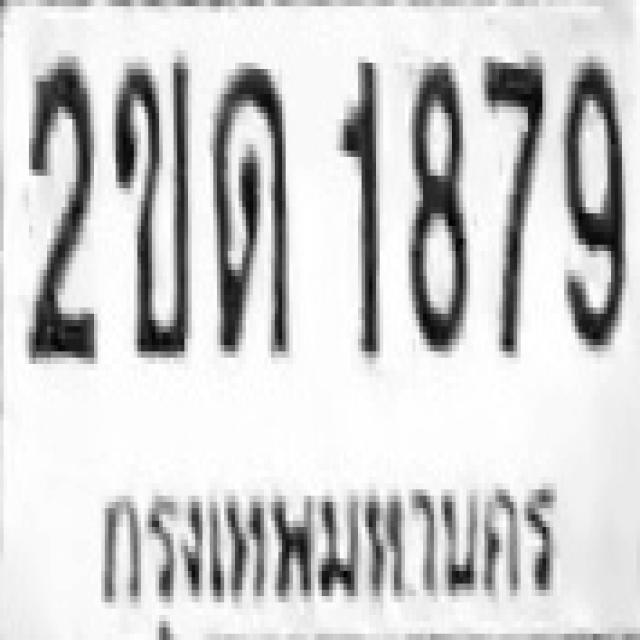1: (334, 56, 378, 358)
11KhorKhai: (112, 53, 188, 354)
2: (23, 53, 96, 361)
29DorDek: (212, 56, 288, 352)
7: (481, 53, 542, 354)
8: (405, 56, 466, 352)
9: (560, 54, 622, 348)
Bangkok: (90, 467, 566, 640)
